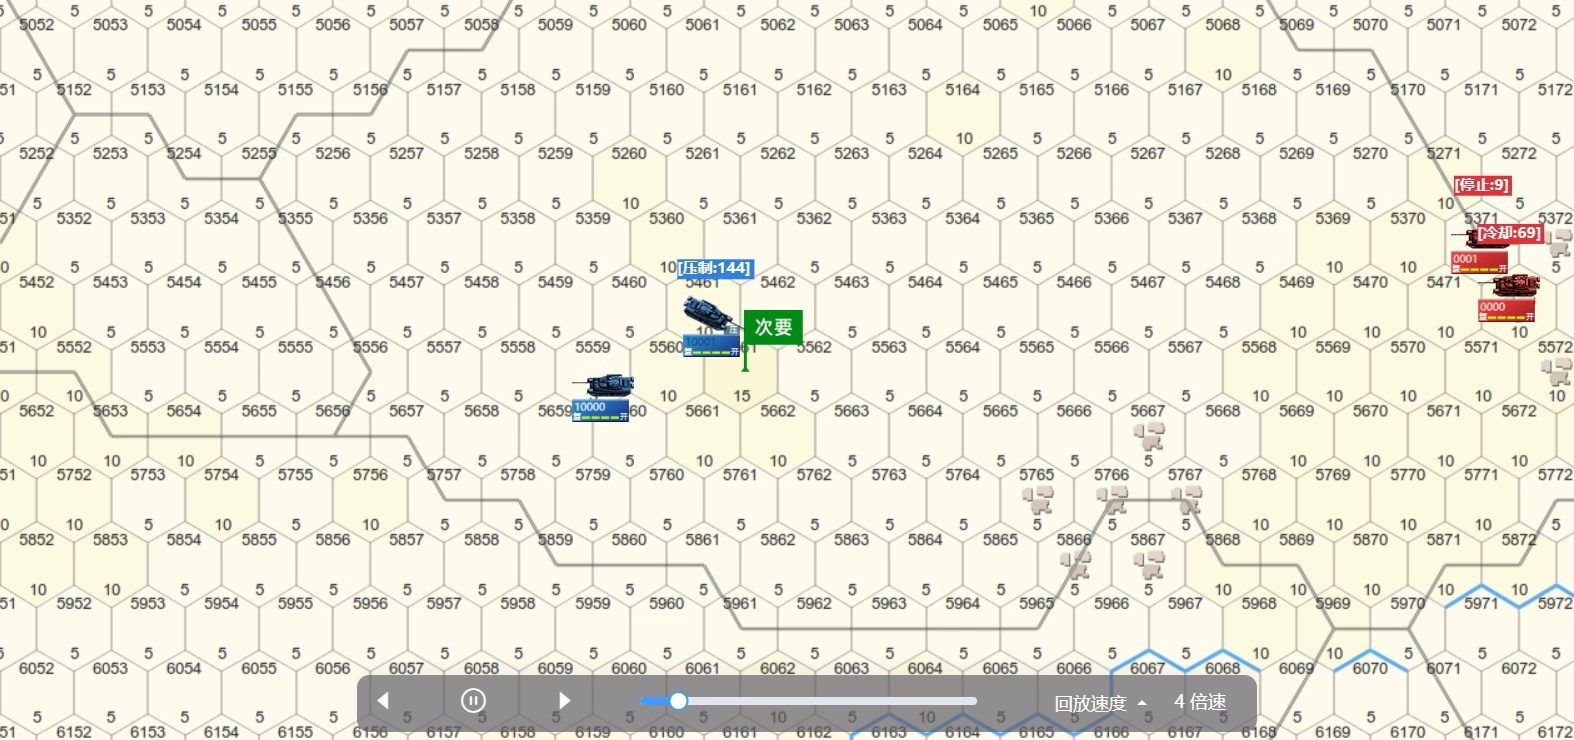blue_tank: (683, 294, 749, 369), (575, 362, 635, 419)
red_tank: (1474, 279, 1547, 330), (1451, 228, 1516, 280)
